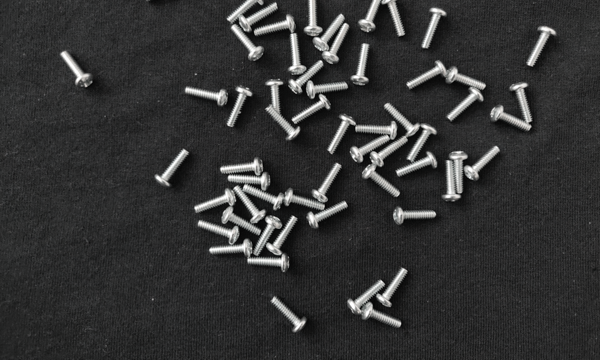shortscrew: (446, 87, 485, 124), (155, 149, 189, 190), (271, 297, 308, 334), (362, 164, 400, 200), (526, 25, 557, 69), (384, 103, 421, 139), (233, 186, 268, 224), (265, 216, 298, 256), (405, 60, 447, 91), (288, 60, 324, 96), (464, 147, 501, 182), (347, 281, 385, 315), (312, 163, 343, 204), (266, 106, 302, 141), (61, 51, 95, 88), (232, 24, 265, 62), (377, 268, 408, 308), (307, 201, 349, 230), (313, 14, 344, 53), (283, 188, 326, 216), (292, 94, 332, 124), (408, 123, 438, 163), (221, 207, 261, 237), (327, 114, 356, 155), (489, 106, 533, 133), (192, 188, 236, 215), (370, 137, 408, 168), (239, 2, 278, 32), (396, 152, 439, 179), (227, 85, 253, 129), (350, 135, 389, 164), (243, 184, 284, 211), (323, 23, 349, 65), (198, 219, 240, 245), (361, 302, 402, 328), (510, 82, 534, 125), (217, 156, 264, 177), (423, 8, 447, 49), (254, 15, 296, 37), (446, 67, 486, 90), (383, 0, 407, 38), (228, 171, 271, 192), (186, 86, 229, 106), (393, 207, 436, 227), (350, 44, 370, 87), (228, 0, 265, 23), (441, 161, 461, 203), (358, 0, 383, 33), (288, 34, 308, 75), (449, 151, 468, 194), (248, 254, 291, 273), (355, 121, 398, 140), (307, 81, 349, 100), (210, 239, 254, 257), (305, 0, 323, 37), (265, 79, 283, 115), (142, 0, 186, 4)
